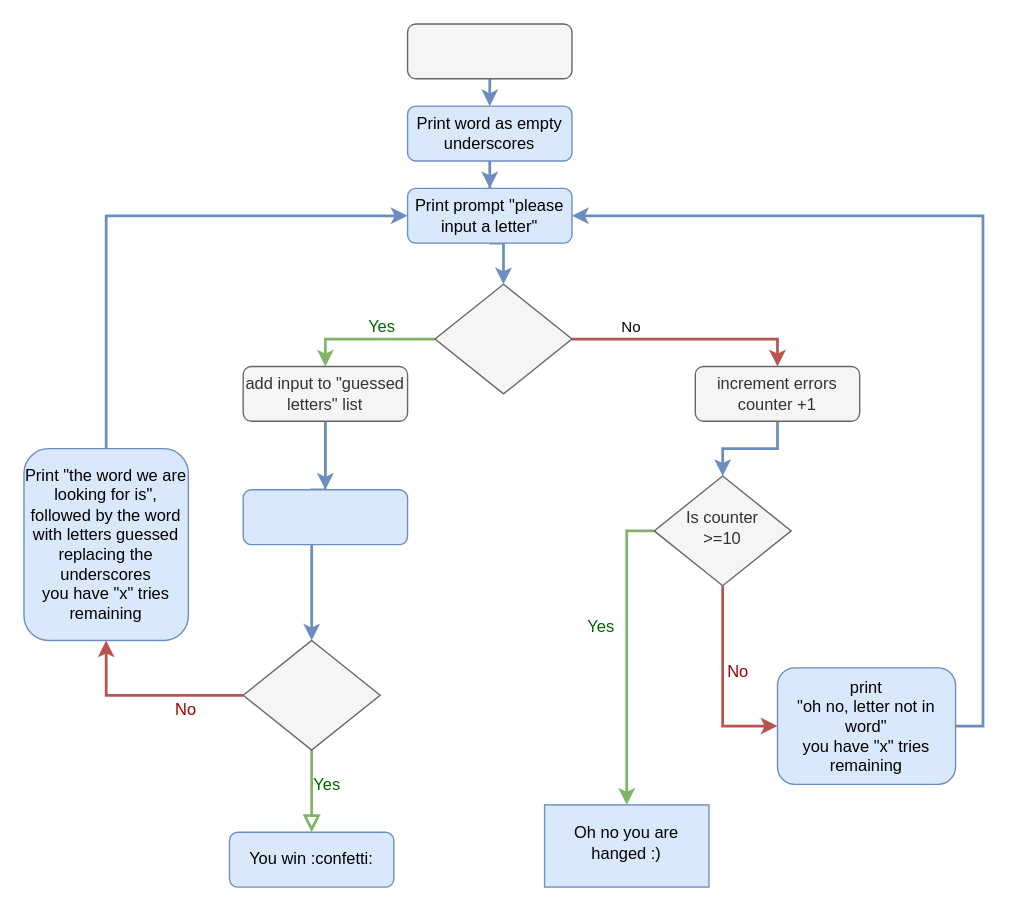
The diagram is 1019 pixels wide and 911 high, and some of its shapes have lost their labels. Each missing label, with the centre of its shape:
Check if input in word: [503,338]
Get random word from list: [489,51]
print "congrats", "input in word": [325,516]
Word complete?: [311,694]
